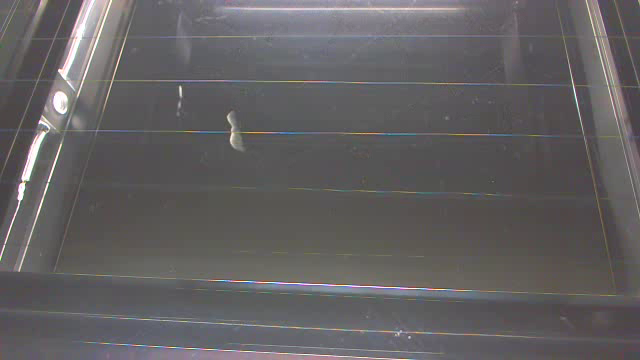alpha: (227, 112, 245, 152), (175, 84, 184, 115)
